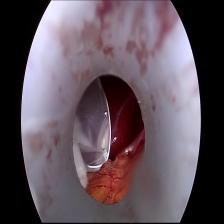Specimen Bag: (75, 81, 114, 176)
